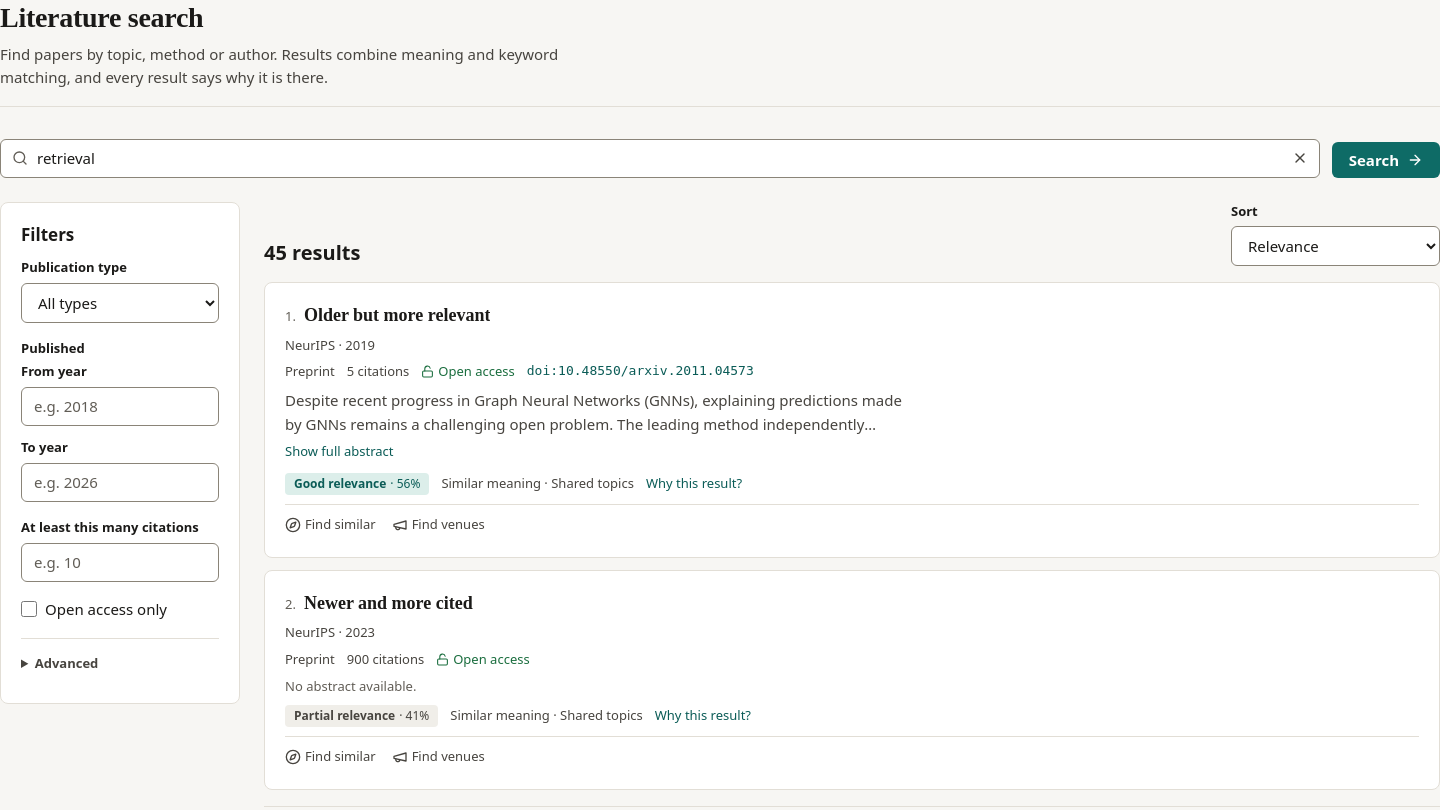
Test: changing the search records it in the address › sorts the page in hand without asking again, and says so
Select "Newest first (this page)" in the dropdown labelled "Sort" at (1336,246), box [1231,226,1439,266]
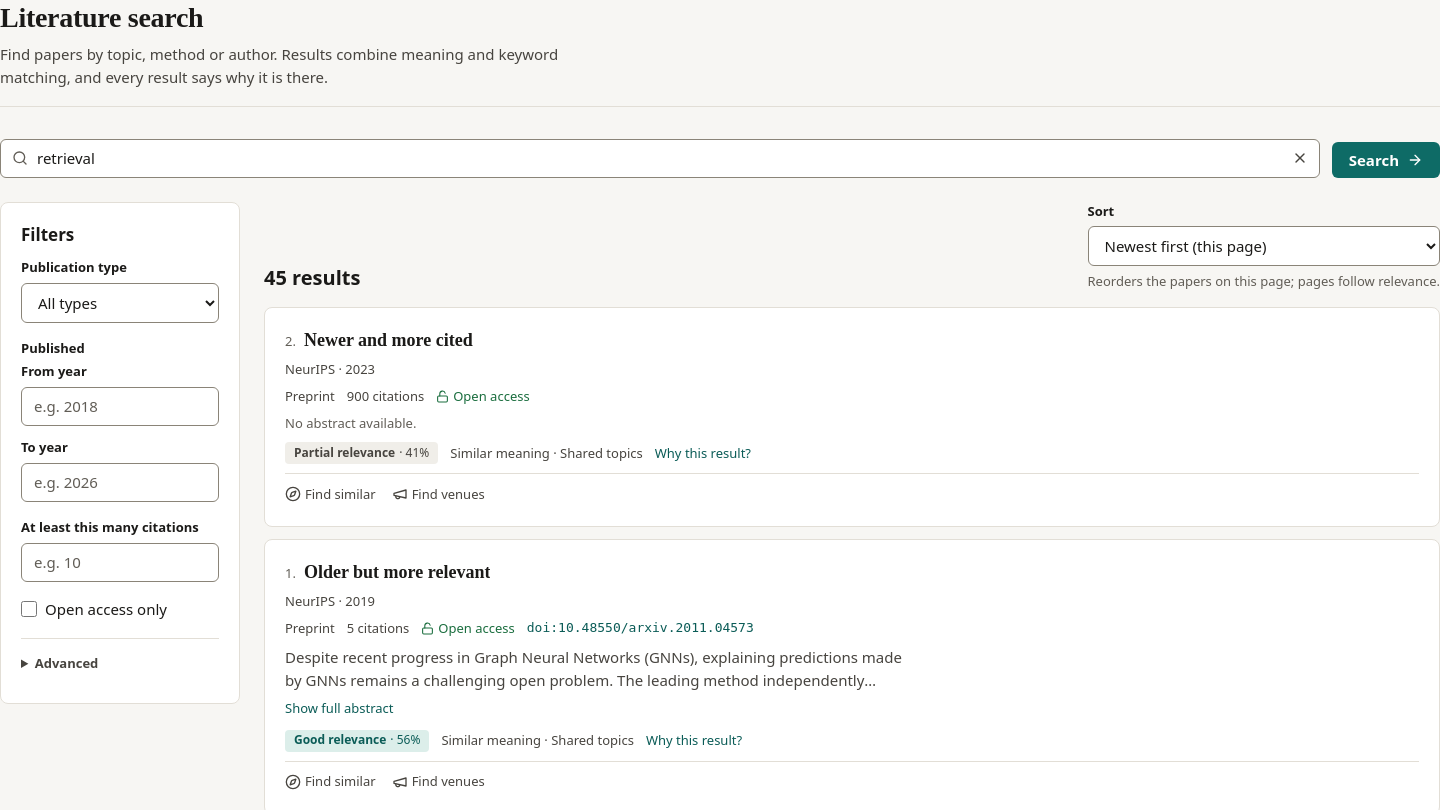
Expected: the text "Reorders the papers on this page; pages follow relevance." is shown, [1088,272,1439,291]
